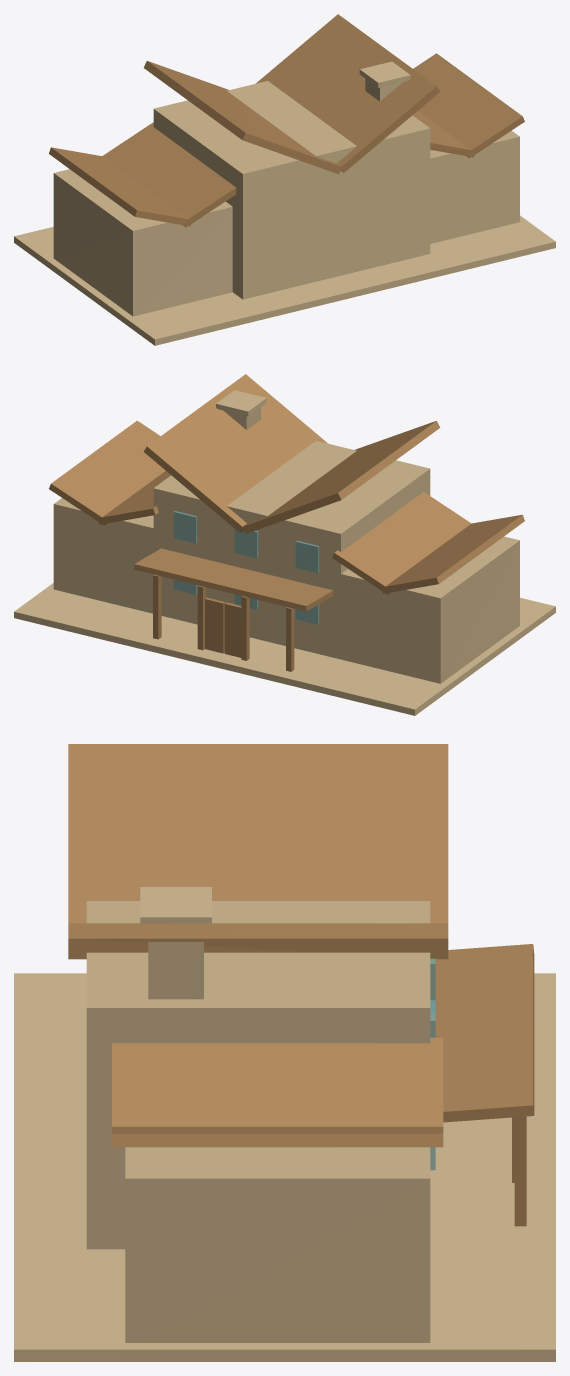
The model's file is manor-farmhouse.glb.
3 views of the same model, one above another, from view 1: azimuth 30°, elevation 25°; view 2: azimuth 150°, elevation 25°; view 3: azimuth 270°, elevation 25° (orthographic). The views are drawn at different scales.
Parts seen in each view (by area): view 1: manor-farmhouse-static-manor-plaster, manor-farmhouse-static-manor-slate, manor-farmhouse-static-manor-stone; view 2: manor-farmhouse-static-manor-plaster, manor-farmhouse-static-manor-slate, manor-farmhouse-static-manor-stone, manor-farmhouse-static-manor-timber, manor-farmhouse-static-manor-window; view 3: manor-farmhouse-static-manor-slate, manor-farmhouse-static-manor-plaster, manor-farmhouse-static-manor-stone, manor-farmhouse-static-manor-timber.
Part boxes in pixels (x1,y1,x2,y2): manor-farmhouse-static-manor-plaster: (53,81,519,316); manor-farmhouse-static-manor-slate: (49,14,524,227); manor-farmhouse-static-manor-stone: (14,61,555,345); manor-farmhouse-static-manor-plaster: (53,441,519,683); manor-farmhouse-static-manor-slate: (49,374,524,611); manor-farmhouse-static-manor-stone: (14,390,555,715); manor-farmhouse-static-manor-timber: (153,574,294,671); manor-farmhouse-static-manor-window: (173,511,319,624); manor-farmhouse-static-manor-slate: (68,744,534,1147); manor-farmhouse-static-manor-plaster: (86,901,430,1342); manor-farmhouse-static-manor-stone: (14,887,555,1361); manor-farmhouse-static-manor-timber: (512,1116,526,1226).
Bounding box in the file's own units: 18.4 × 7.76 × 11.2.
